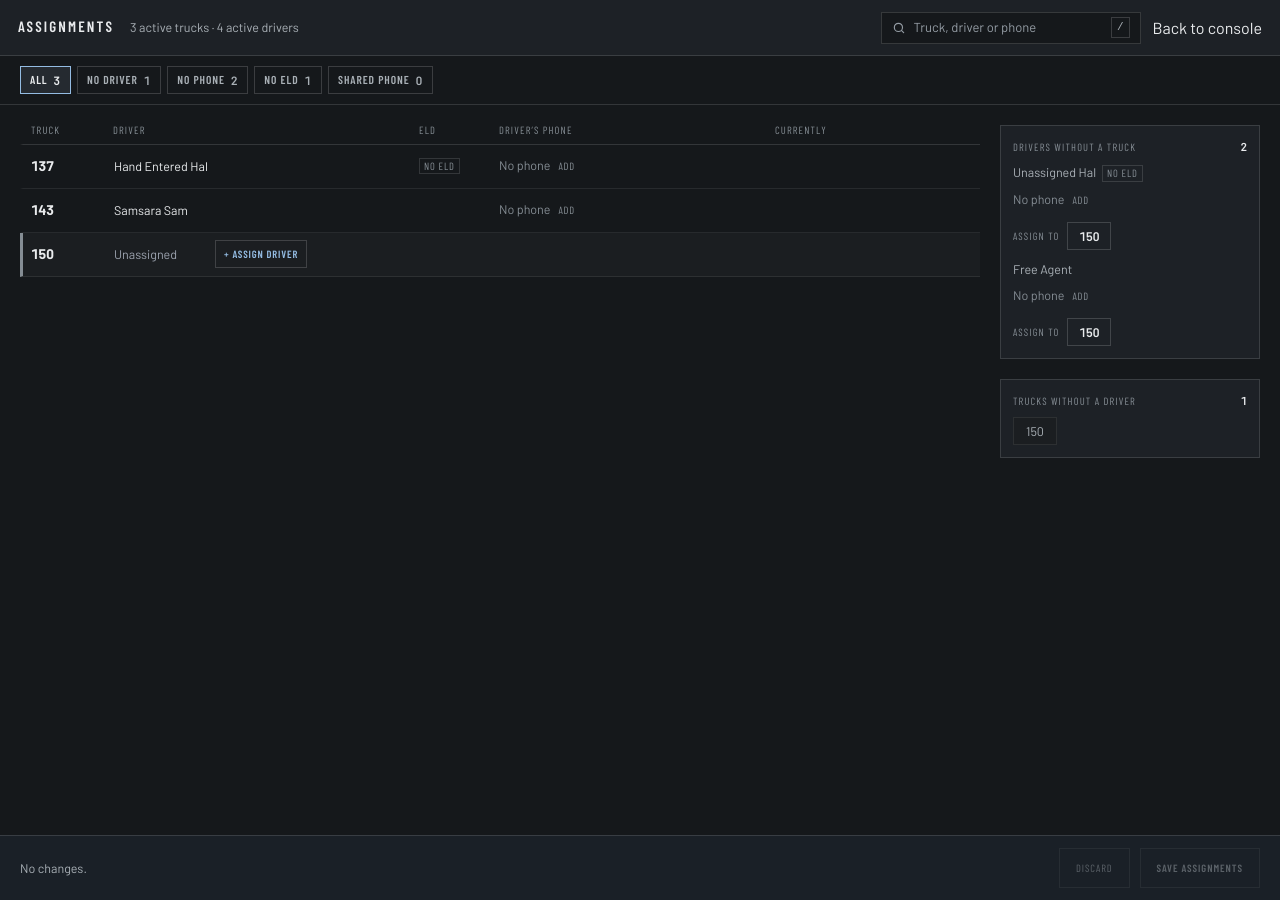
Scenario: Currently shows only on a changed row (§12.130) › writes a truck that had nobody as "was —", as the confirm does
The width and height of the screenshot is (1280, 900).
Click the dropdown named "Driver for truck 150". click: x=155, y=254
box: [103,238,207,270]
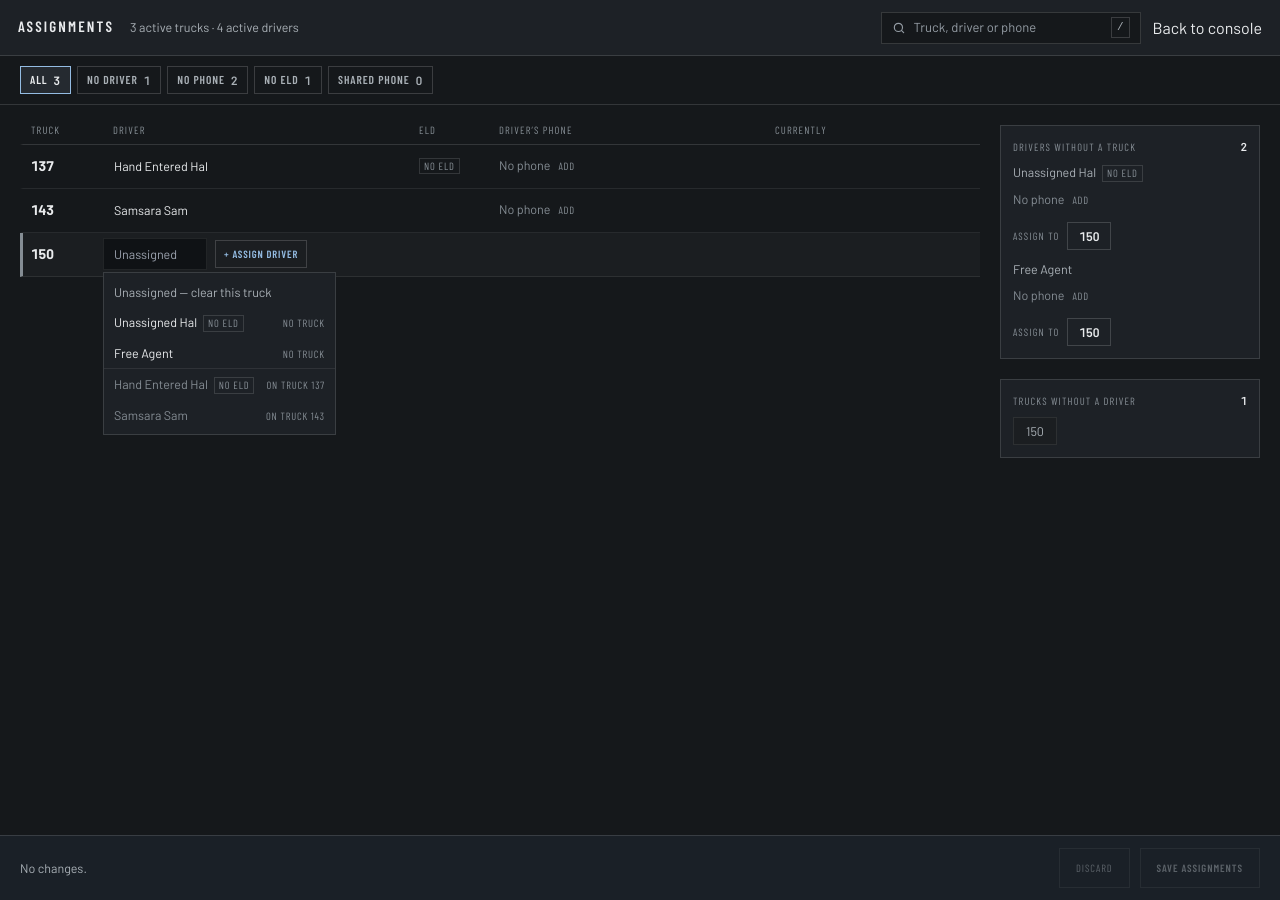
Click the option "Unassigned Hal No ELD no truck". click: x=220, y=322
box: [104,307,335,338]
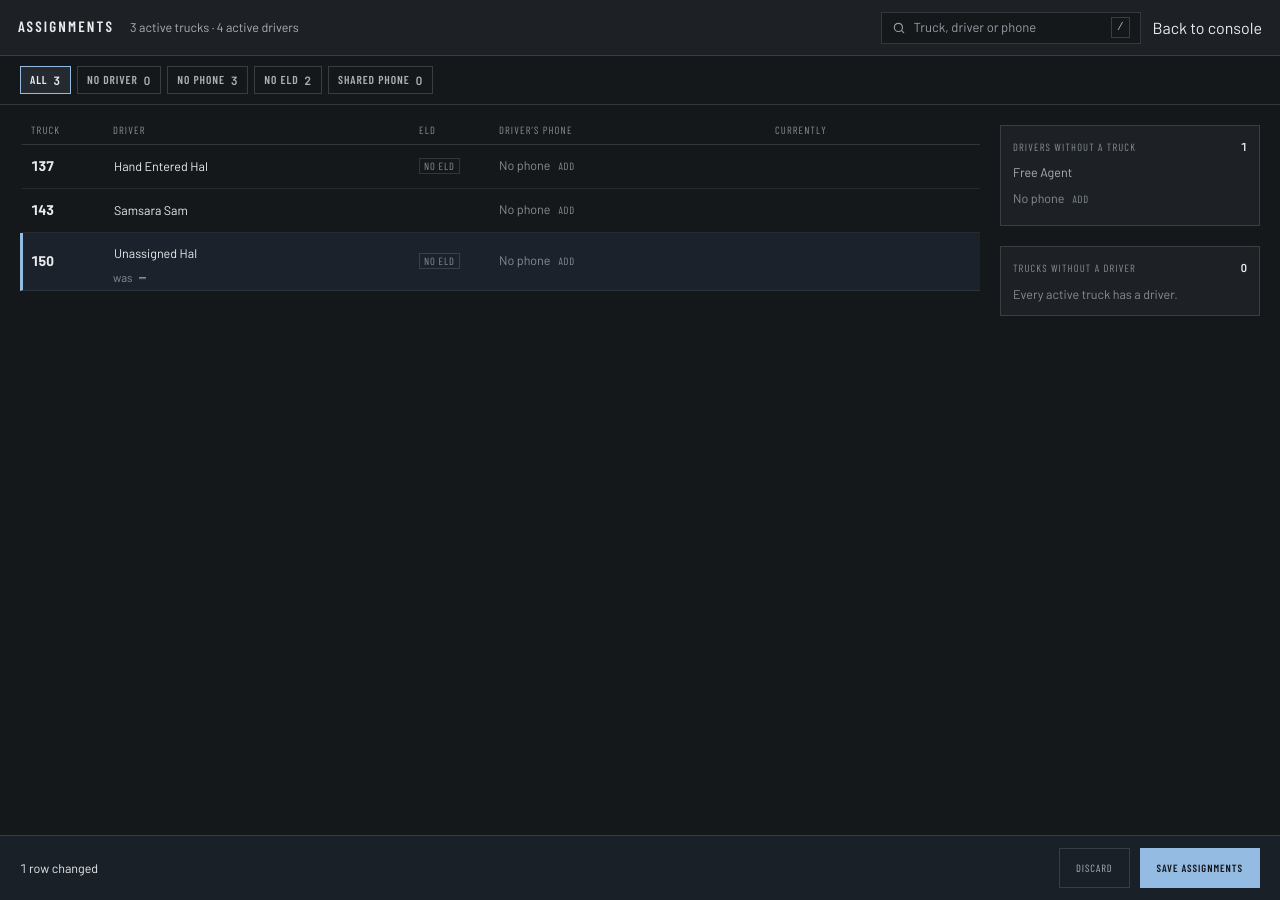
Expected: the element showing "was —" is shown, [113,270,146,284]
